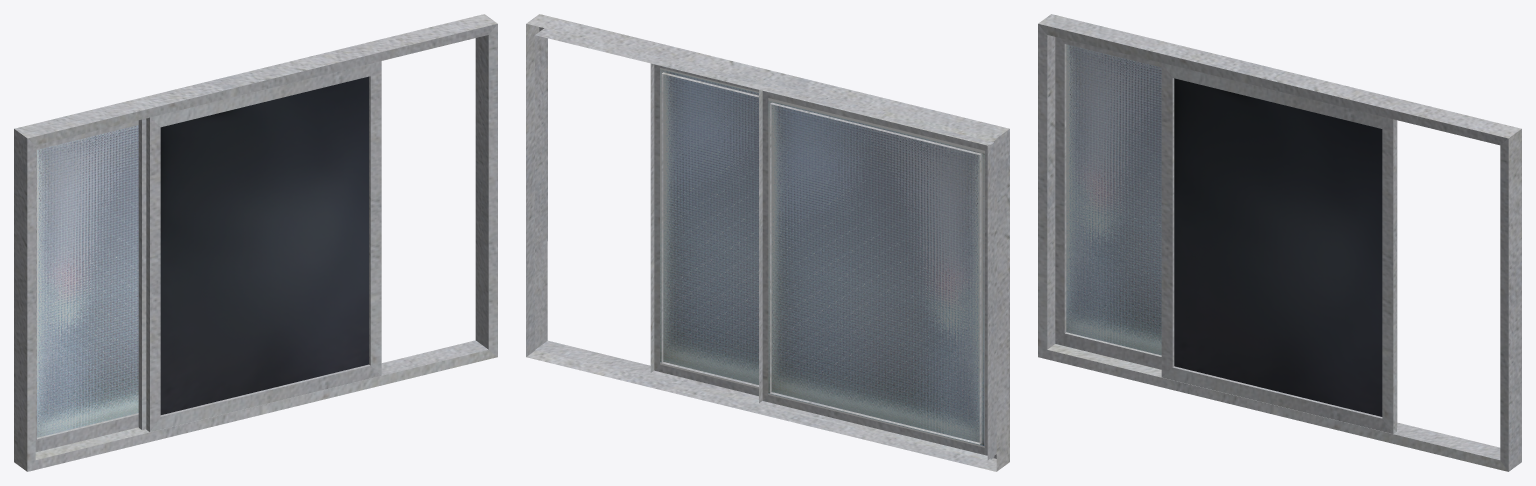
Rendered from Window_1m_003.fbx.
The picture shows the model from 3 angles, left to right: view 1: azimuth 30°, elevation 25°; view 2: azimuth 150°, elevation 25°; view 3: azimuth 330°, elevation 25°; orthographic projection.
Parts seen in each view (by area): view 1: Window_1m_003; view 2: Window_1m_003; view 3: Window_1m_003.
Boxes of the visible parts, x1,y1,x2,y2 form: Window_1m_003: [14, 14, 497, 471]; Window_1m_003: [526, 14, 1009, 471]; Window_1m_003: [1038, 14, 1521, 471].
Bounding box in the file's own units: 148 × 100 × 7.28.
Materials: 1 (1 with a texture image).
